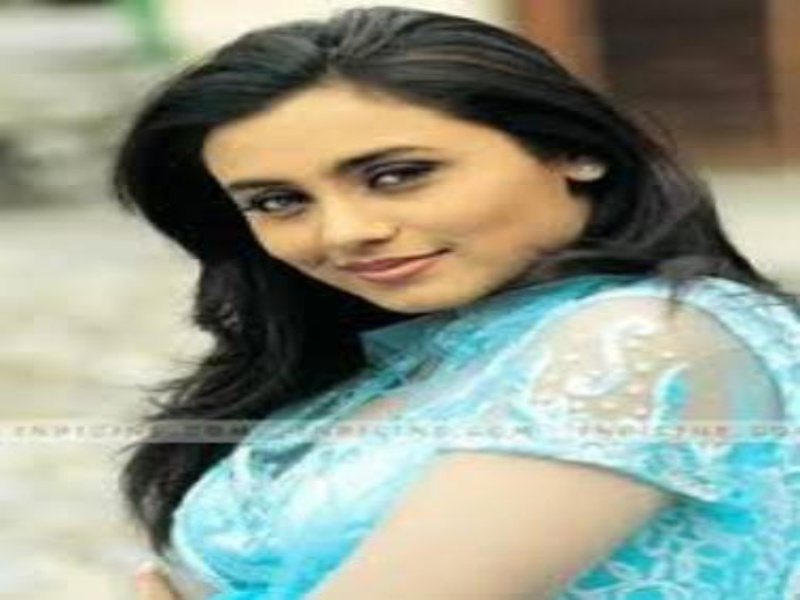TsisyArotava: (169, 24, 581, 335)
